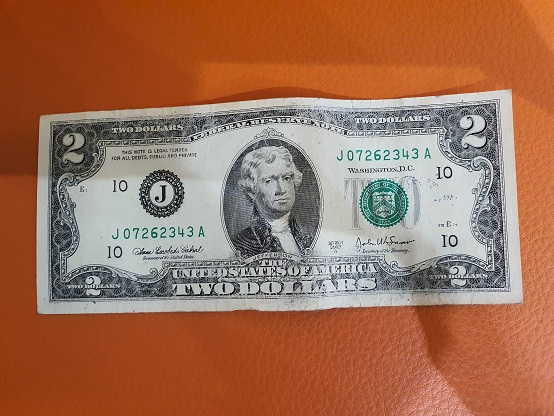2dollar: (35, 90, 525, 312)
